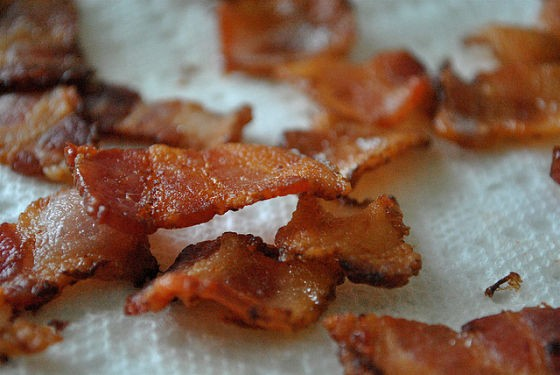bacon: (273, 15, 526, 146), (102, 136, 366, 239), (340, 287, 560, 371)
